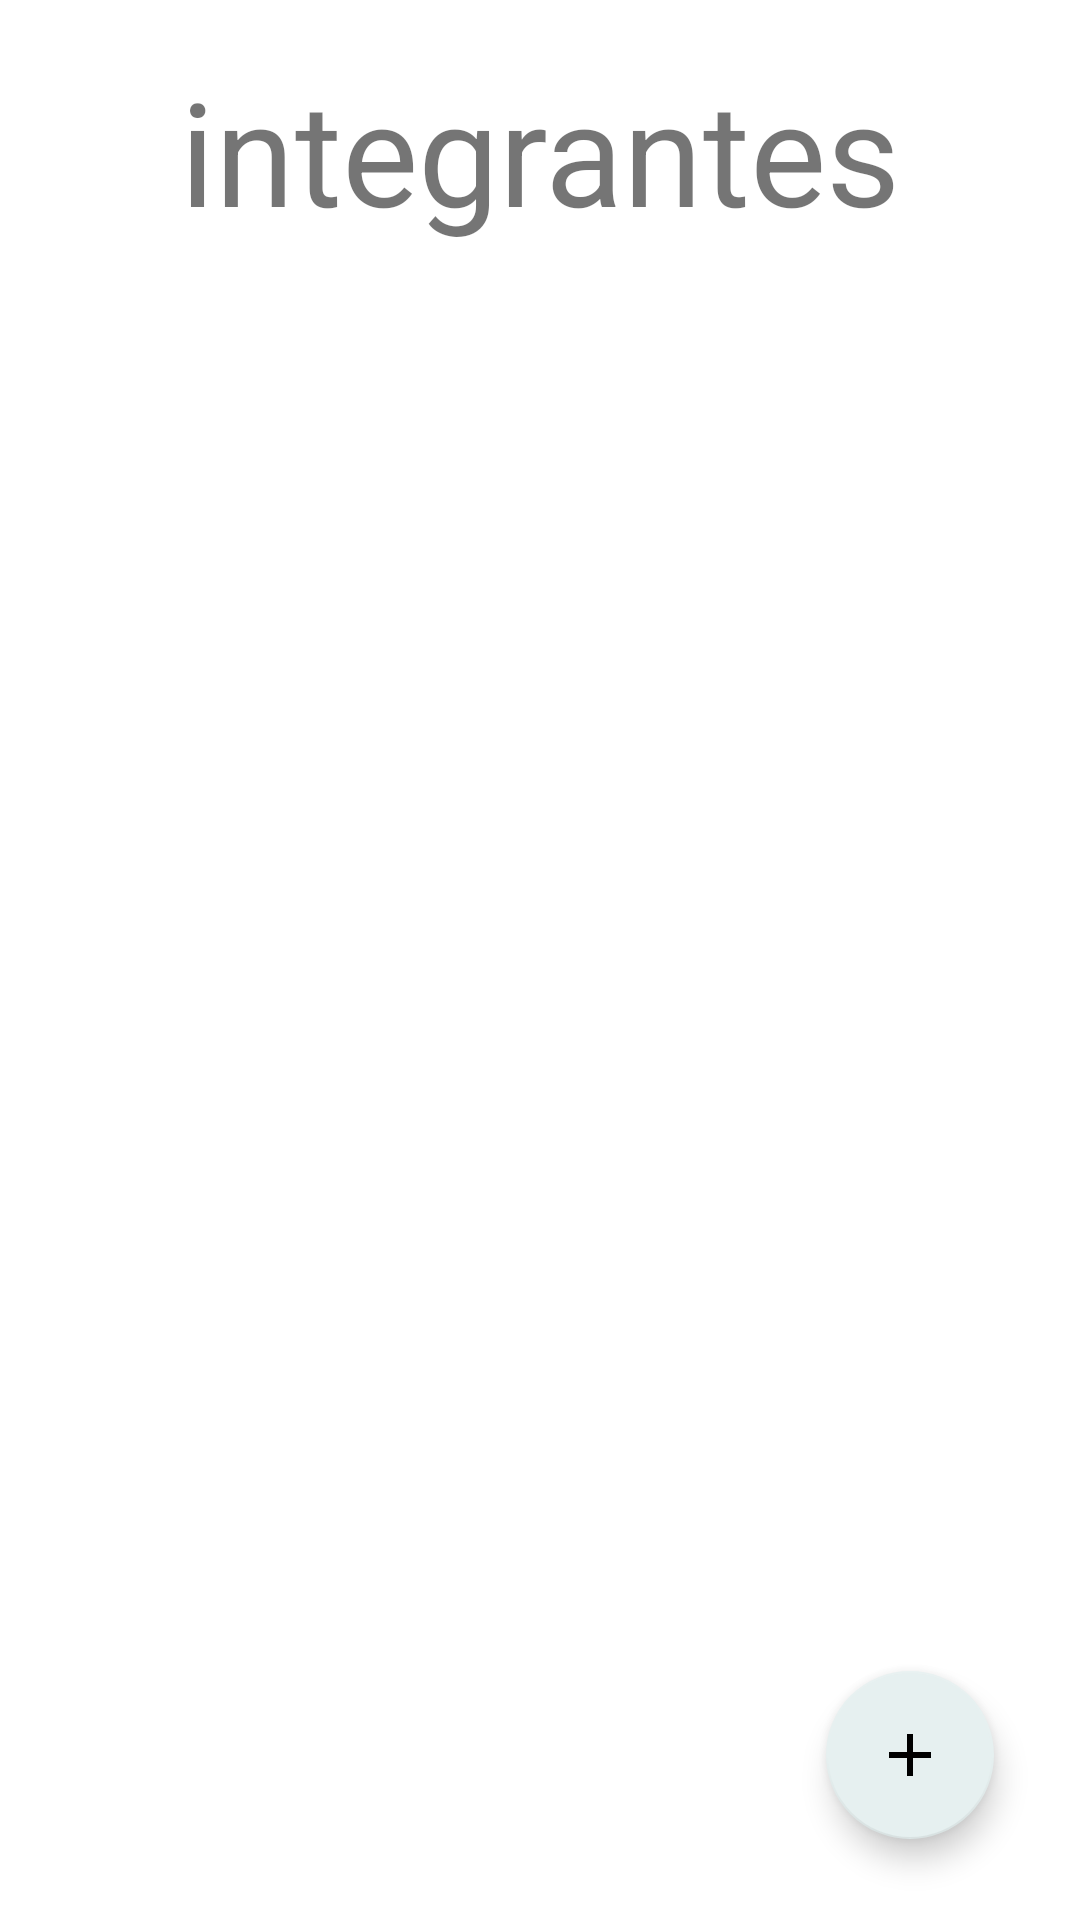

Where to tap for icons on this 1080px×1920px app screen, as point (x, y):
Add homeowork: point (910, 1755)
